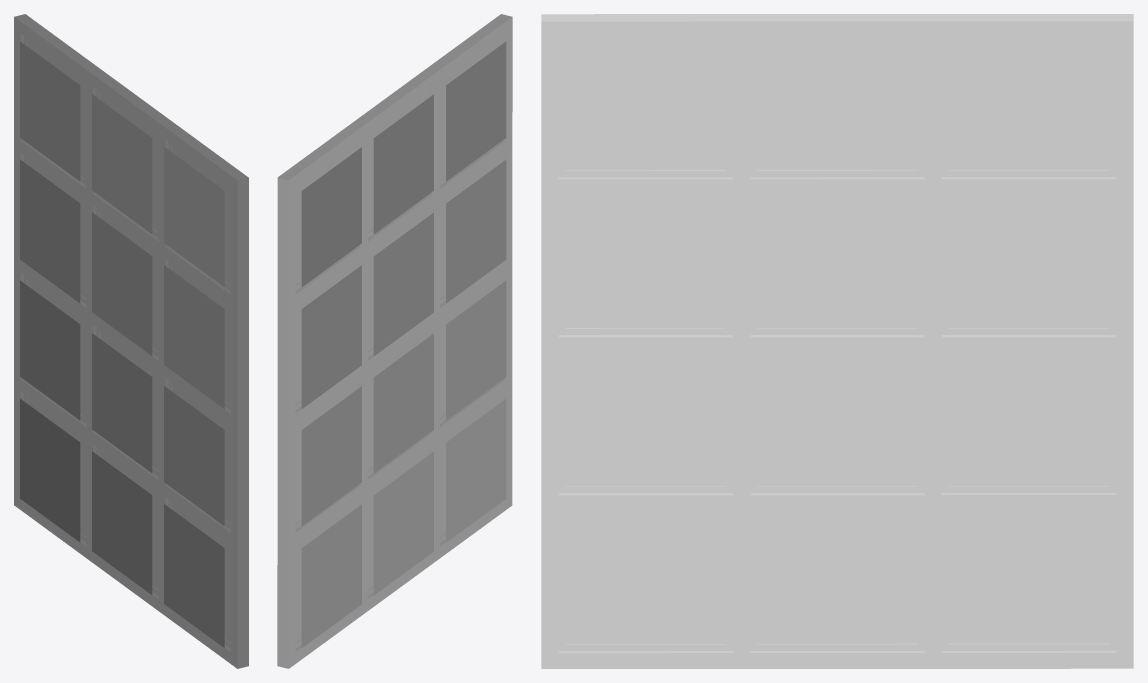
File: Window_f31cffce.obj
The picture shows the model from 3 angles, left to right: view 1: azimuth 30°, elevation 25°; view 2: azimuth 150°, elevation 25°; view 3: azimuth 270°, elevation 25°; orthographic projection. The views are drawn at different scales.
Parts seen in each view (by area): view 1: FP209:polySurface2_b18d4ba3, FP209:polySurface70_5a98da37, QuadDecalSpawnPlane_(14)_bca414fe, QuadDecalSpawnPlane_(16)_06d03e91, QuadDecalSpawnPlane_(12)_a2489478, QuadDecalSpawnPlane_(18)_8a39b0b6, QuadDecalSpawnPlane_(22)_ca2722b2, QuadDecalSpawnPlane_(20)_b625a675, QuadDecalSpawnPlane_(17)_6b828e5d, QuadDecalSpawnPlane_(23)_9f5236f1, QuadDecalSpawnPlane_(13)_d7ae3f1e, QuadDecalSpawnPlane_(19)_8a5d75cf (+2 smaller); view 2: FP209:polySurface2_b18d4ba3, FP209:polySurface70_5a98da37, QuadDecalSpawnPlane_(18)_8a39b0b6, QuadDecalSpawnPlane_(12)_a2489478, QuadDecalSpawnPlane_(14)_bca414fe, QuadDecalSpawnPlane_(20)_b625a675, QuadDecalSpawnPlane_(22)_ca2722b2, QuadDecalSpawnPlane_(16)_06d03e91, QuadDecalSpawnPlane_(13)_d7ae3f1e, QuadDecalSpawnPlane_(21)_eb8ec3c5, QuadDecalSpawnPlane_(23)_9f5236f1, QuadDecalSpawnPlane_(15)_eeb322d1 (+2 smaller); view 3: FP209:polySurface70_5a98da37, FP209:polySurface2_b18d4ba3.
Part boxes in pixels (bbox=[...]): FP209:polySurface2_b18d4ba3: bbox=[14, 14, 248, 668]; FP209:polySurface70_5a98da37: bbox=[27, 40, 230, 642]; QuadDecalSpawnPlane_(14)_bca414fe: bbox=[164, 265, 224, 408]; QuadDecalSpawnPlane_(16)_06d03e91: bbox=[20, 159, 80, 303]; QuadDecalSpawnPlane_(12)_a2489478: bbox=[92, 212, 152, 355]; QuadDecalSpawnPlane_(18)_8a39b0b6: bbox=[92, 451, 152, 594]; QuadDecalSpawnPlane_(22)_ca2722b2: bbox=[20, 398, 80, 542]; QuadDecalSpawnPlane_(20)_b625a675: bbox=[164, 504, 224, 647]; QuadDecalSpawnPlane_(17)_6b828e5d: bbox=[20, 41, 80, 181]; QuadDecalSpawnPlane_(23)_9f5236f1: bbox=[20, 280, 80, 420]; QuadDecalSpawnPlane_(13)_d7ae3f1e: bbox=[92, 94, 152, 233]; QuadDecalSpawnPlane_(19)_8a5d75cf: bbox=[92, 333, 152, 472]; FP209:polySurface2_b18d4ba3: bbox=[277, 14, 512, 668]; FP209:polySurface70_5a98da37: bbox=[295, 40, 498, 642]; QuadDecalSpawnPlane_(18)_8a39b0b6: bbox=[373, 451, 433, 595]; QuadDecalSpawnPlane_(12)_a2489478: bbox=[373, 212, 433, 356]; QuadDecalSpawnPlane_(14)_bca414fe: bbox=[446, 160, 506, 303]; QuadDecalSpawnPlane_(20)_b625a675: bbox=[446, 399, 506, 542]; QuadDecalSpawnPlane_(22)_ca2722b2: bbox=[301, 504, 361, 647]; QuadDecalSpawnPlane_(16)_06d03e91: bbox=[301, 265, 361, 408]; QuadDecalSpawnPlane_(13)_d7ae3f1e: bbox=[373, 94, 433, 234]; QuadDecalSpawnPlane_(21)_eb8ec3c5: bbox=[446, 280, 506, 420]; QuadDecalSpawnPlane_(23)_9f5236f1: bbox=[301, 386, 361, 526]; QuadDecalSpawnPlane_(15)_eeb322d1: bbox=[446, 41, 506, 181]; FP209:polySurface70_5a98da37: bbox=[565, 41, 1109, 643]; FP209:polySurface2_b18d4ba3: bbox=[541, 14, 1133, 668].
Bounding box in the file's own units: 0.065 × 2.05 × 1.7.
